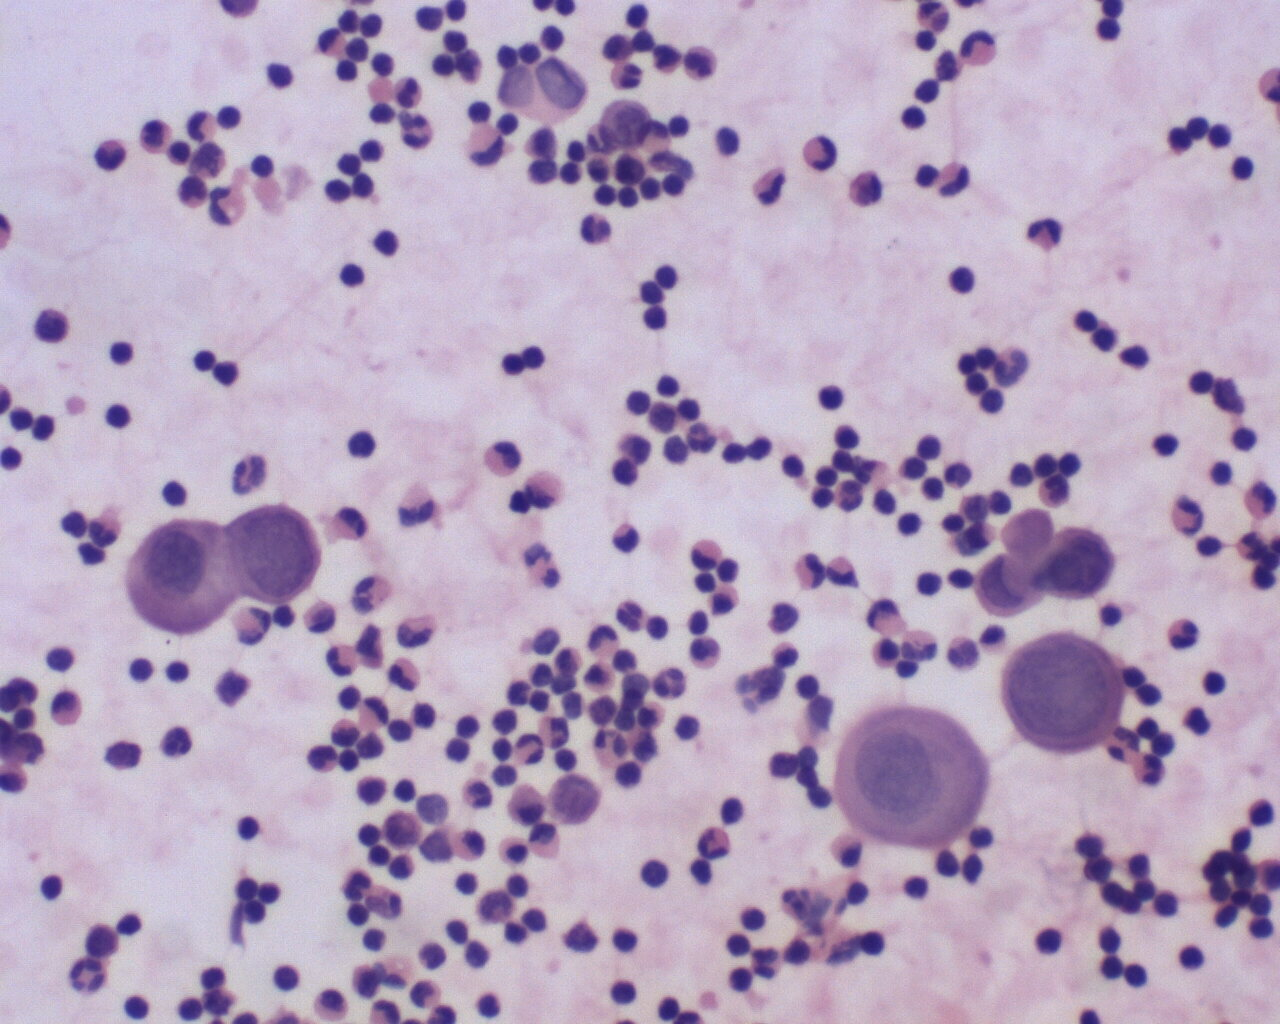ab: (840, 703, 990, 850), (1001, 630, 1127, 766), (123, 515, 238, 632), (224, 504, 328, 603), (1033, 525, 1116, 603)
lymph: (945, 258, 984, 296), (634, 853, 672, 892), (1186, 365, 1221, 403), (232, 807, 267, 845), (815, 380, 853, 416), (1172, 941, 1213, 974), (333, 256, 371, 290), (1033, 923, 1067, 961), (102, 338, 141, 371), (1224, 153, 1259, 186), (735, 902, 770, 934), (1198, 667, 1234, 698), (99, 403, 132, 435)
neutro: (65, 953, 110, 999), (952, 28, 1001, 67), (1027, 210, 1071, 253), (1168, 492, 1206, 541), (799, 130, 841, 173), (578, 208, 616, 251), (651, 662, 689, 704), (611, 596, 650, 635), (157, 721, 195, 760), (1160, 615, 1200, 652), (388, 74, 425, 107)
